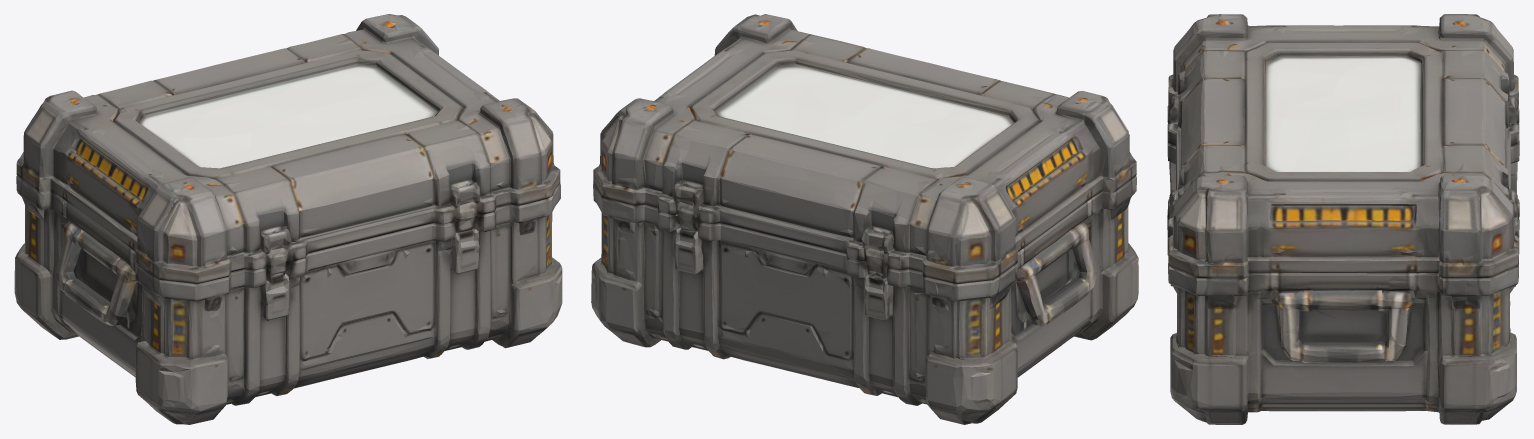
The model's file is crate.glb.
3 views of the same model, side by side, from view 1: azimuth 30°, elevation 25°; view 2: azimuth 150°, elevation 25°; view 3: azimuth 270°, elevation 25° (orthographic). The views are drawn at different scales.
Visible parts, largest first — view 1: tmpatfk3bcj.ply; view 2: tmpatfk3bcj.ply; view 3: tmpatfk3bcj.ply.
Part boxes in pixels (<box>): tmpatfk3bcj.ply: <box>14,14,562,424</box>; tmpatfk3bcj.ply: <box>591,14,1138,424</box>; tmpatfk3bcj.ply: <box>1167,14,1519,424</box>.
Size of the model in its own units: 1 by 0.5398 by 0.7227.
Materials: 1 (1 with a texture image).
